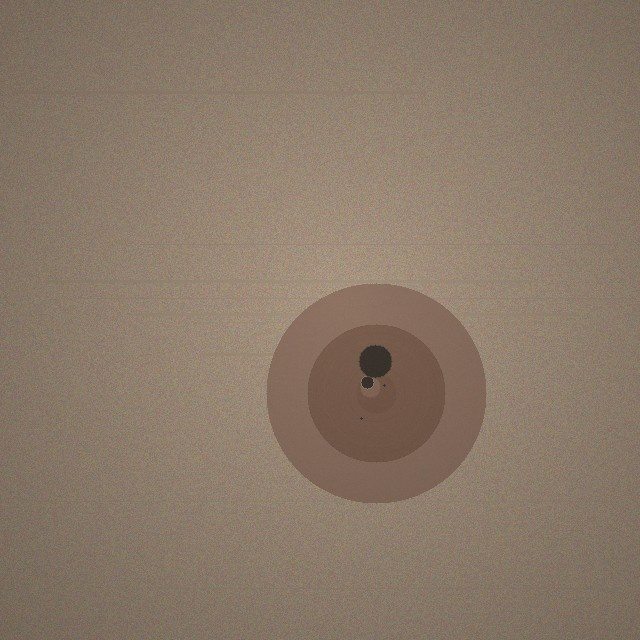shrinkage: (266, 283, 486, 503)
